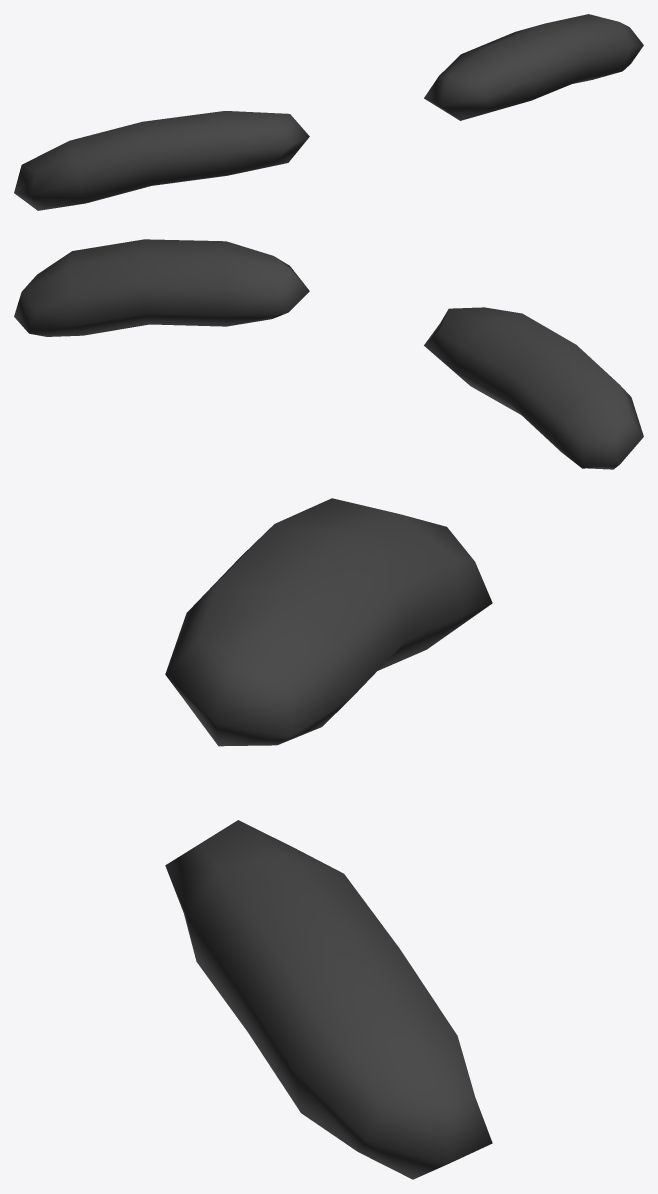
Rendered from Eyebrow_005.glb.
3 renders of one model, top to bottom at view 1: azimuth 30°, elevation 25°; view 2: azimuth 150°, elevation 25°; view 3: azimuth 270°, elevation 25°, orthographic. The views are drawn at different scales.
Parts seen in each view (by area): view 1: Eyebrow_005; view 2: Eyebrow_005; view 3: Eyebrow_005.
Boxes of the visible parts, bbox=[...] form: Eyebrow_005: bbox=[14, 14, 643, 210]; Eyebrow_005: bbox=[14, 239, 643, 469]; Eyebrow_005: bbox=[165, 498, 492, 1179].
Bounding box in the file's own units: 0.2758 × 0.0371 × 0.0638.
Materials: 1 (1 with a texture image).
